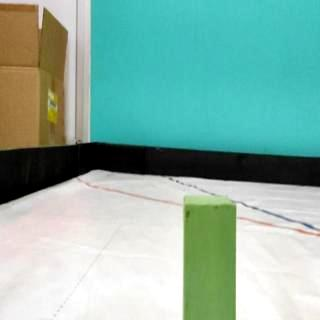greenbox: (182, 193, 238, 320)
